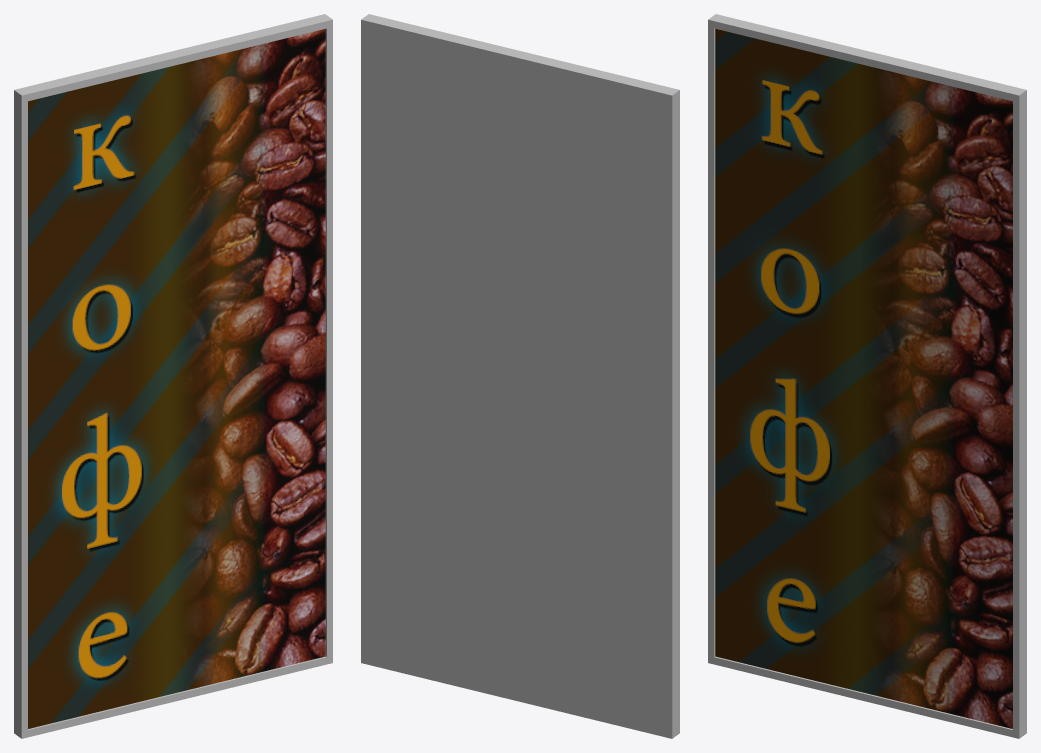
Rendered from screen_1.fbx.
3 views of the same model, side by side, from view 1: azimuth 30°, elevation 25°; view 2: azimuth 150°, elevation 25°; view 3: azimuth 330°, elevation 25° (orthographic).
Parts seen in each view (by area): view 1: screen_1; view 2: screen_1; view 3: screen_1.
Boxes of the visible parts, box(x1,y1,x2,y2) form: screen_1: box(14, 14, 332, 738); screen_1: box(361, 14, 679, 738); screen_1: box(708, 14, 1026, 738).
Bounding box in the file's own units: 1.03 × 2.03 × 0.0445.
